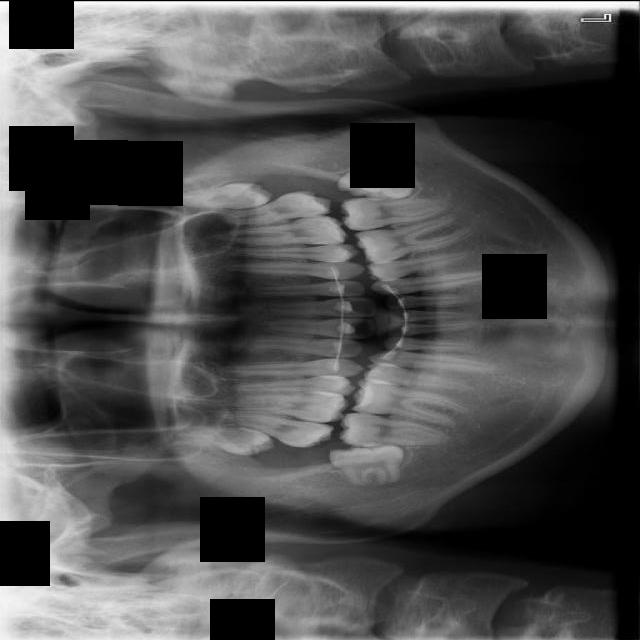3M ESPE Implant: (177, 421, 275, 457)
52: (349, 371, 405, 422), (353, 220, 408, 268)
73: (586, 38, 598, 44)
BioHorizons Implant: (215, 186, 334, 229)
BioLife Implant: (174, 179, 274, 214)
Biomet 3i Implant: (335, 148, 417, 206)
Blue Sky Bio Implant: (340, 196, 449, 230)
Caries: (216, 402, 335, 453)
Implant: (339, 409, 452, 458)
Keystone Dental Implant: (329, 443, 405, 486)
